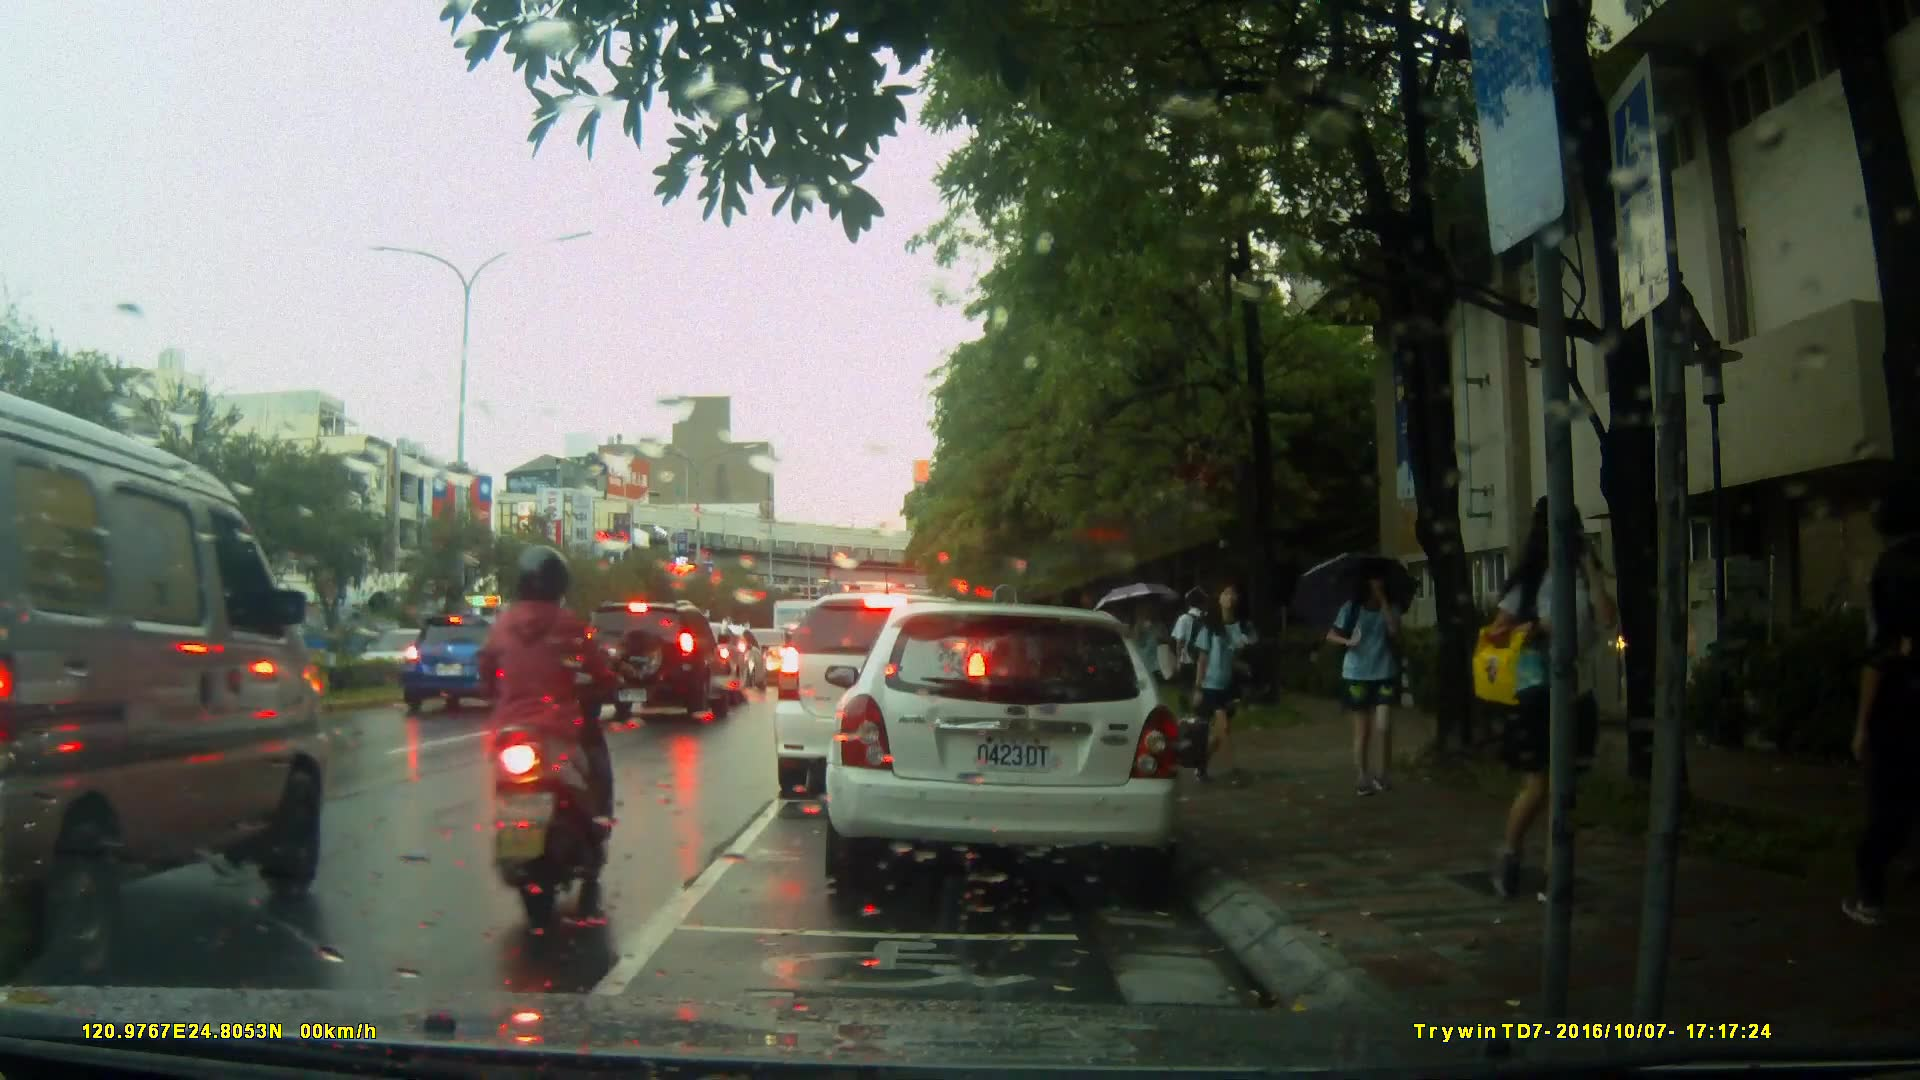pedestrian: (1502, 486, 1626, 904), (1850, 483, 1906, 928), (1325, 554, 1407, 803), (1177, 563, 1259, 770)
rider: (459, 537, 608, 925)
vehicle: (1, 392, 332, 973), (815, 593, 1204, 909), (771, 590, 994, 802), (571, 601, 735, 725), (402, 615, 550, 712)
